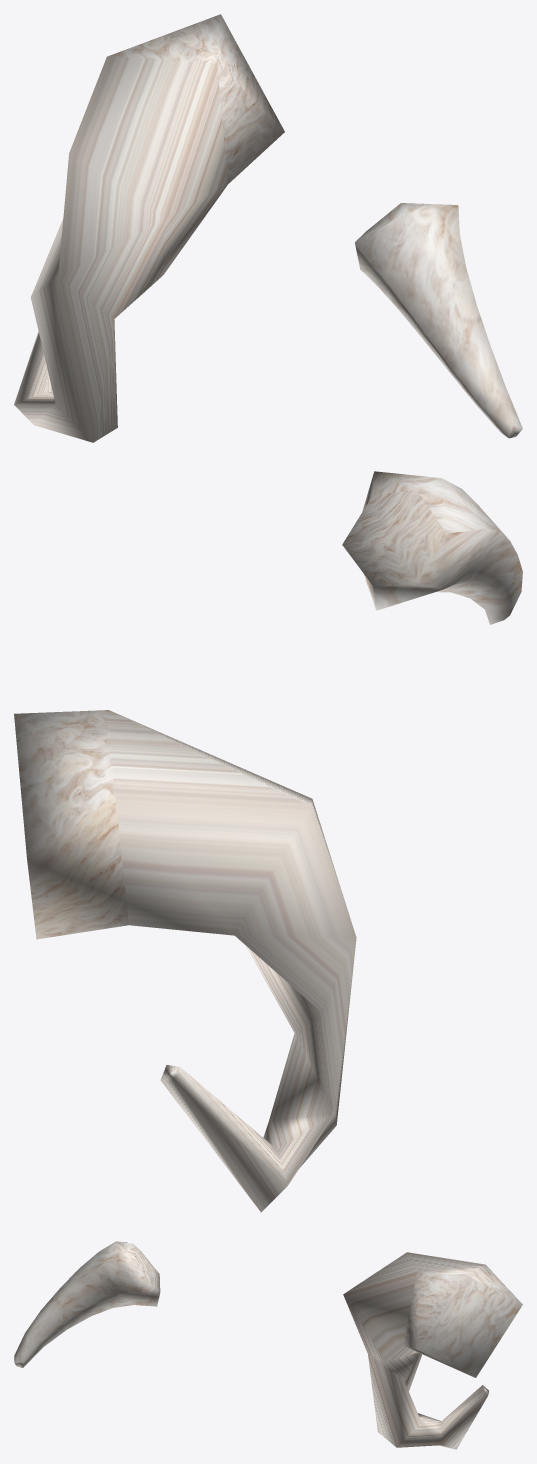
Rendered from _heep_Wool.fbx.
The picture shows the model from 3 angles, top to bottom: view 1: azimuth 30°, elevation 25°; view 2: azimuth 150°, elevation 25°; view 3: azimuth 270°, elevation 25°; orthographic projection. The views are drawn at different scales.
Visible parts, largest first — view 1: pCube2, pCone1; view 2: pCube2, pCone1; view 3: pCube2, pCone1.
Part boxes in pixels (x1,y1,x2,y2): pCube2: [14, 14, 284, 442]; pCone1: [355, 203, 522, 438]; pCube2: [14, 710, 356, 1212]; pCone1: [342, 471, 522, 624]; pCube2: [343, 1252, 522, 1449]; pCone1: [14, 1241, 160, 1367].
Bounding box in the file's own units: 0.2105 × 0.3036 × 0.5716.
1 material, 1 textured.
